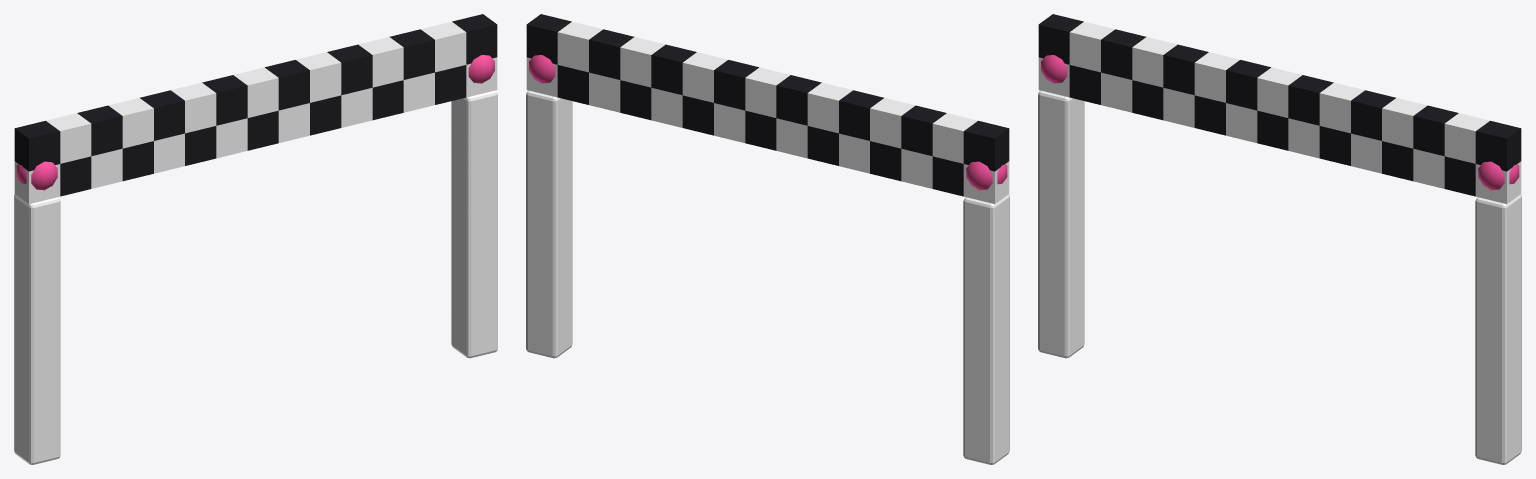
File: RaceArch.fbx
The picture shows the model from 3 angles, left to right: view 1: azimuth 30°, elevation 25°; view 2: azimuth 150°, elevation 25°; view 3: azimuth 330°, elevation 25°; orthographic projection.
Visible parts, largest first — view 1: RaceArch; view 2: RaceArch; view 3: RaceArch.
Boxes of the visible parts, x1,y1,x2,y2 form: RaceArch: [14, 14, 497, 464]; RaceArch: [526, 14, 1009, 464]; RaceArch: [1038, 14, 1521, 464].
Size of the model in its own units: 30.28 by 20 by 2.4.
1 material, 1 textured.
